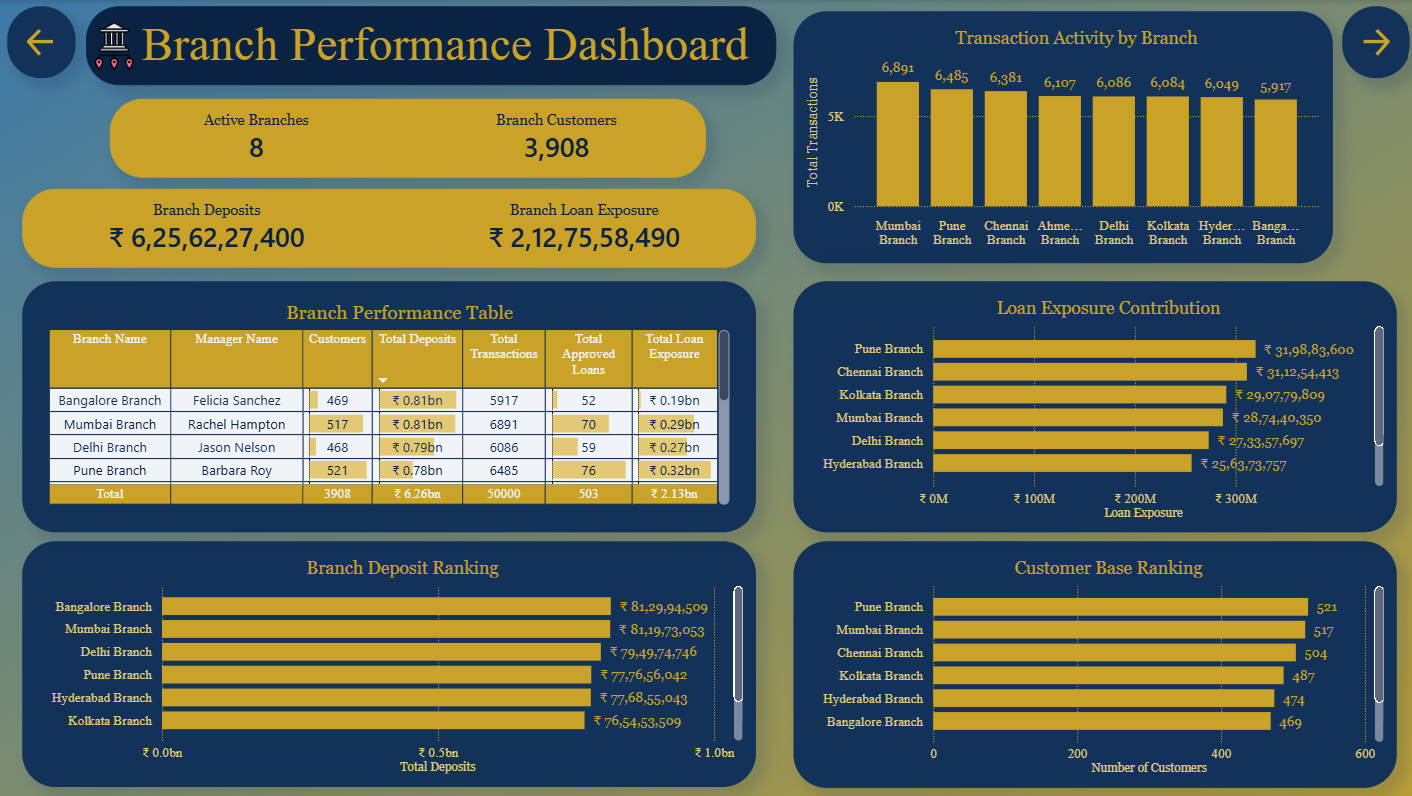

Layout of this report page (visuals, bound fields, positions):
{"tool":"powerbi","page":{"name":"Branch Performance Dashboard","canvas":[1280,720],"ordinal":3},"visuals":[{"type":"shape","box":[81.2,6,622.5,71.2],"z":0},{"type":"shape","box":[102.5,88.8,537.5,71.2],"z":1000},{"type":"shape","box":[23.8,170,661.2,71.2],"z":2000},{"type":"cardVisual","fields":{"Data":["vw_branch_performance.Active Branches"]},"box":[150,91,170,67],"z":3000},{"type":"cardVisual","fields":{"Data":["vw_branch_performance.Branch Customers"]},"box":[420,91,170,67],"z":4000},{"type":"cardVisual","fields":{"Data":["vw_branch_performance.Branch Deposits"]},"box":[80,172,220,67],"z":5000},{"type":"cardVisual","fields":{"Data":["vw_branch_performance.Branch Loan Exposure"]},"box":[420,172,220,67],"z":6000},{"type":"clusteredBarChart","title":"Branch Deposit Ranking","fields":{"Category":["vw_branch_performance.Branch_Name"],"Y":["Sum(vw_branch_performance.Total_Deposits)"]},"box":[23.5,488.6,661.8,221.4],"z":7000},{"type":"clusteredBarChart","title":"Customer Base Ranking","fields":{"Category":["vw_branch_performance.Branch_Name"],"Y":["Sum(vw_branch_performance.Number_of_Customers)"]},"box":[718.7,488.6,544.3,222.7],"z":8000},{"type":"clusteredColumnChart","title":"Transaction Activity by Branch","fields":{"Category":["vw_branch_performance.Branch_Name"],"Y":["Sum(vw_branch_performance.Total_Transactions)"]},"box":[718.8,10,486.2,227.5],"z":9000},{"type":"clusteredBarChart","title":"Loan Exposure Contribution","fields":{"Category":["vw_branch_performance.Branch_Name"],"Y":["Sum(vw_branch_performance.Total_Loan_Exposure)"]},"box":[718.7,253.6,544.3,226.4],"z":10000},{"type":"tableEx","title":"Branch Performance Table","fields":{"Values":["vw_branch_performance.Branch_Name","vw_branch_performance.Manager_Name","Sum(vw_branch_performance.Number_of_Customers)","Sum(vw_branch_performance.Total_Deposits)","Sum(vw_branch_performance.Total_Transactions)","Sum(vw_branch_performance.Total_Approved_Loans)","Sum(vw_branch_performance.Total_Loan_Exposure)"]},"box":[23.5,253.6,661.8,226.4],"z":11000},{"type":"textbox","box":[113.8,10,582.5,71.2],"z":12000},{"type":"actionButton","box":[1213.8,6,61.2,65],"z":13000},{"type":"actionButton","box":[10,6,61.2,65],"z":14000},{"type":"image","box":[77.5,18.8,57.5,45],"z":15000}]}

Visuals, with their boxes in screenshot pixels (x1, y1, x2, y2), scaled from the page's 1280x720 canvas onto the 1412x796 screenshot:
shape: bbox=[90, 7, 776, 85]
shape: bbox=[113, 98, 706, 177]
shape: bbox=[26, 188, 756, 267]
cardVisual - vw_branch_performance.Active Branches: bbox=[165, 101, 353, 175]
cardVisual - vw_branch_performance.Branch Customers: bbox=[463, 101, 651, 175]
cardVisual - vw_branch_performance.Branch Deposits: bbox=[88, 190, 331, 264]
cardVisual - vw_branch_performance.Branch Loan Exposure: bbox=[463, 190, 706, 264]
"Branch Deposit Ranking" clusteredBarChart: bbox=[26, 540, 756, 785]
"Customer Base Ranking" clusteredBarChart: bbox=[793, 540, 1393, 786]
"Transaction Activity by Branch" clusteredColumnChart: bbox=[793, 11, 1329, 263]
"Loan Exposure Contribution" clusteredBarChart: bbox=[793, 280, 1393, 531]
"Branch Performance Table" tableEx: bbox=[26, 280, 756, 531]
textbox: bbox=[126, 11, 768, 90]
actionButton: bbox=[1339, 7, 1406, 78]
actionButton: bbox=[11, 7, 79, 78]
image: bbox=[85, 21, 149, 71]
